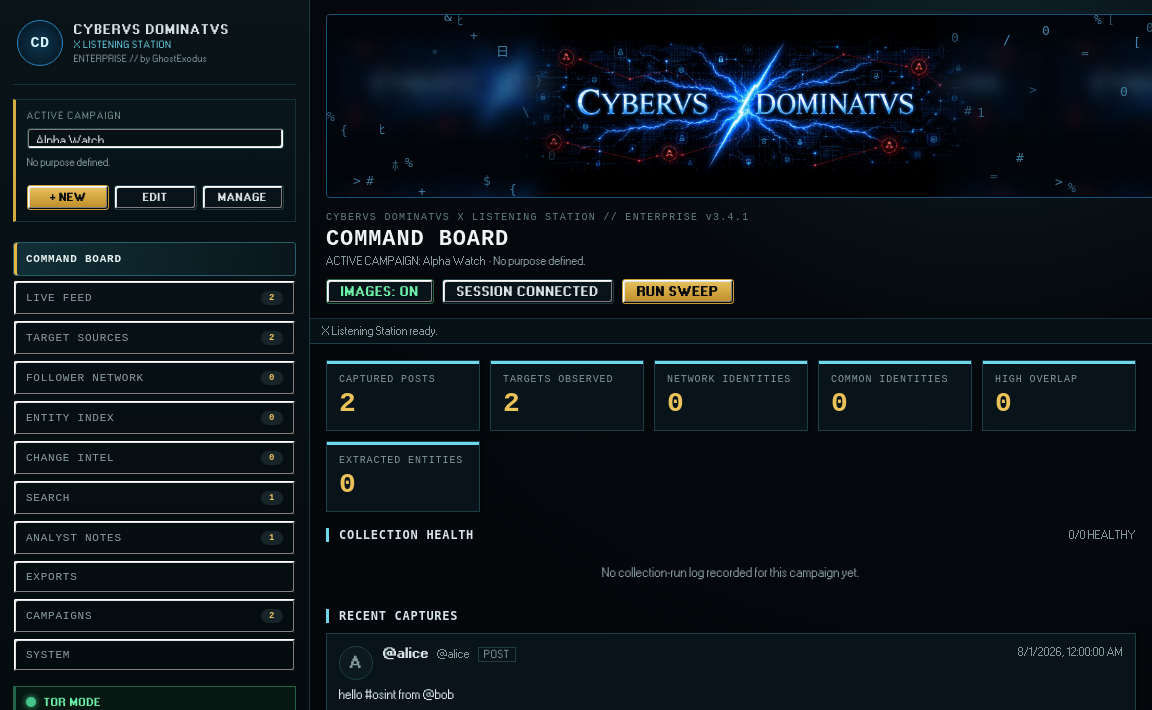
Scenario: X Listening Station tabs (Task 15) › campaigns tab lists every real campaign and marks the active one
The width and height of the screenshot is (1152, 710).
Step 1. Click the button with class "xls-tab" showing "CAMPAIGNS 2" → click(59, 616), box top-left (13, 598), bottom-right (296, 634)
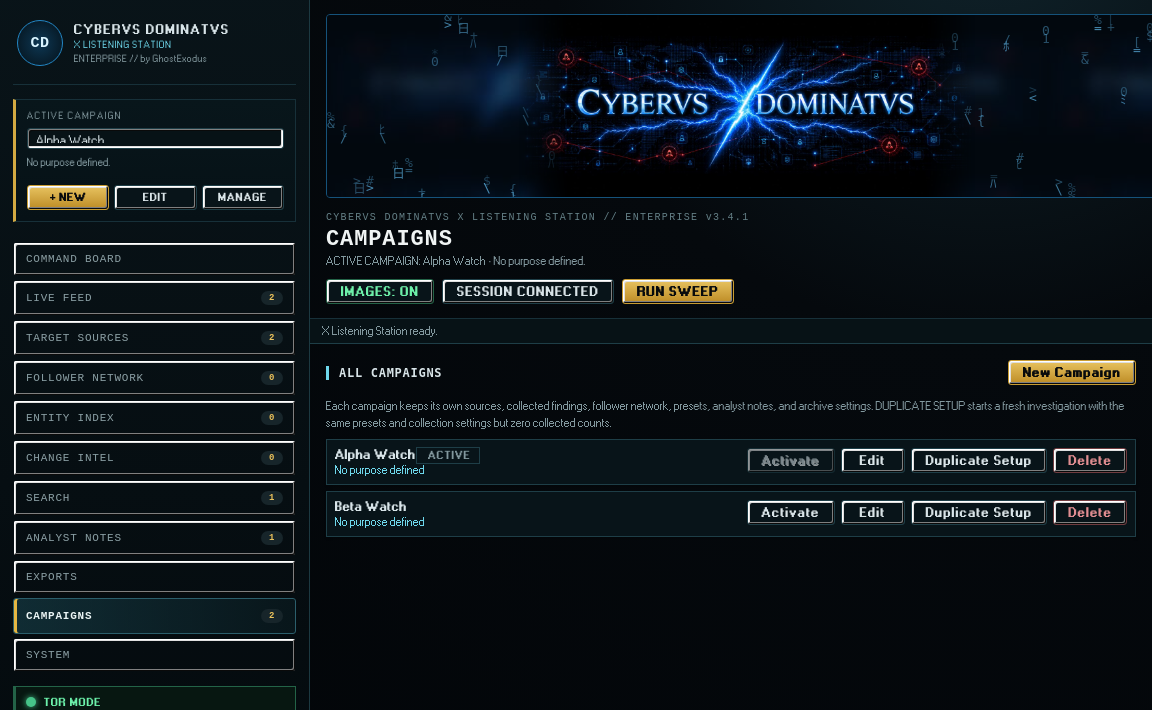
Result: the text "Beta Watch" is shown at top-left (335, 500), bottom-right (407, 513)
Result: the text "ACTIVE" is shown at top-left (416, 447), bottom-right (480, 464)
